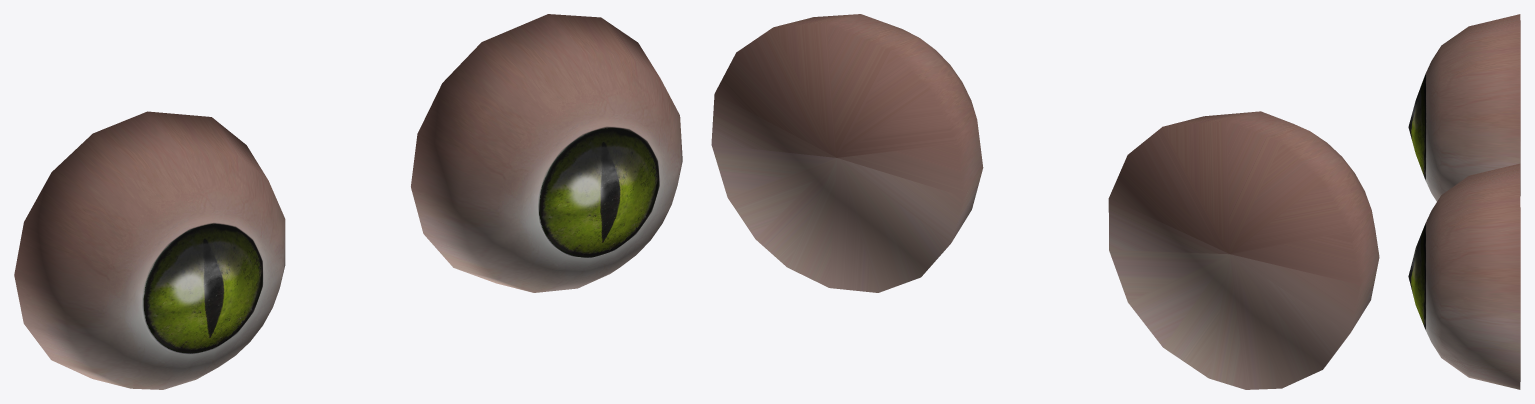
The model's file is femaleeye4.glb.
The picture shows the model from 3 angles, left to right: view 1: azimuth 30°, elevation 25°; view 2: azimuth 150°, elevation 25°; view 3: azimuth 270°, elevation 25°; orthographic projection. The views are drawn at different scales.
Visible parts, largest first — view 1: EyeRight, EyeLeft; view 2: EyeLeft, EyeRight; view 3: EyeLeft, EyeRight.
Boxes of the visible parts, x1,y1,x2,y2 form: EyeRight: (14,111,285,389); EyeLeft: (411,14,682,292); EyeLeft: (711,14,983,292); EyeRight: (1108,111,1379,389); EyeLeft: (1408,163,1520,389); EyeRight: (1408,14,1520,201).
Size of the model in its own units: 0.1084 by 0.0422 by 0.021.
Materials: 1 (1 with a texture image).
